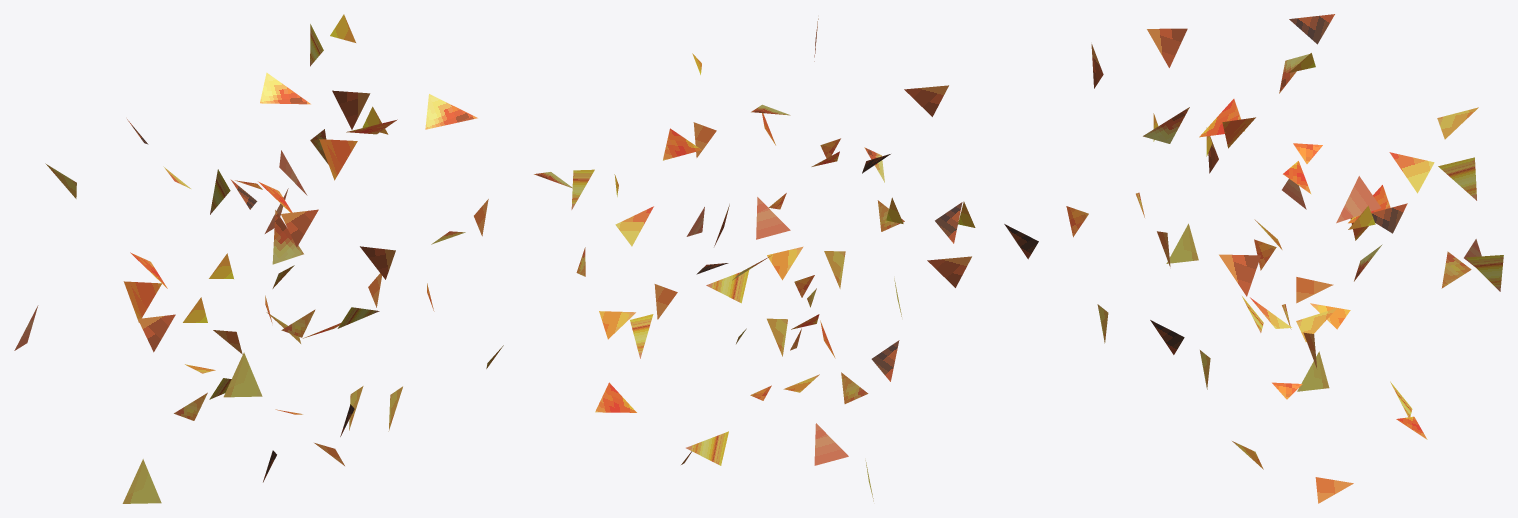
The model's file is Fireblow.glb.
The picture shows the model from 3 angles, left to right: view 1: azimuth 30°, elevation 25°; view 2: azimuth 150°, elevation 25°; view 3: azimuth 270°, elevation 25°; orthographic projection. The views are drawn at different scales.
Parts seen in each view (by area): view 1: Fireblow-col; view 2: Fireblow-col; view 3: Fireblow-col.
Boxes of the visible parts, x1=… form: Fireblow-col: x1=14, y1=14, x2=503, y2=503; Fireblow-col: x1=534, y1=18, x2=975, y2=501; Fireblow-col: x1=1004, y1=14, x2=1503, y2=503.
Size of the model in its own units: 0.1682 by 0.1767 by 0.1782.
Materials: 1 (1 with a texture image).
